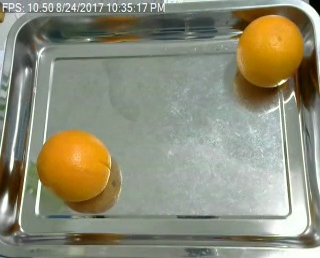Orange: (34, 129, 114, 202), (235, 14, 302, 86)
